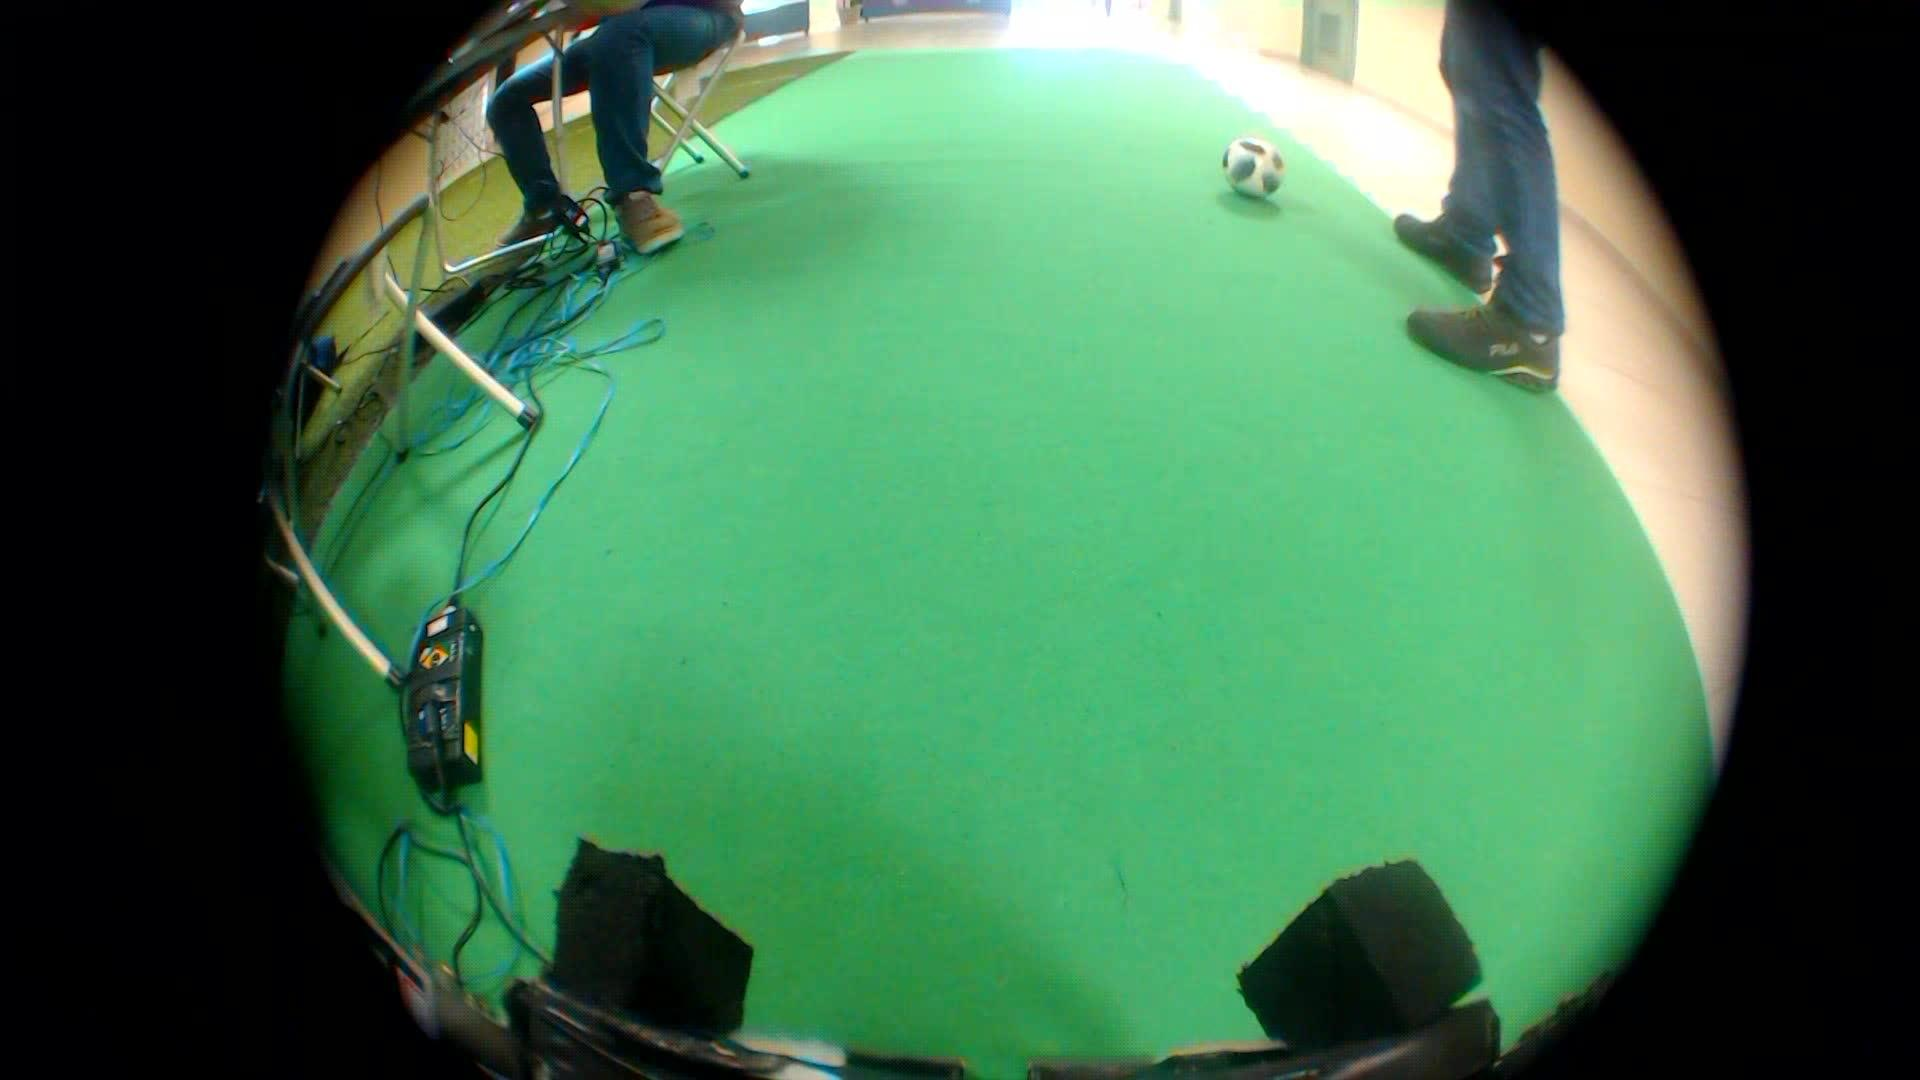ball: (1218, 123, 1292, 204)
